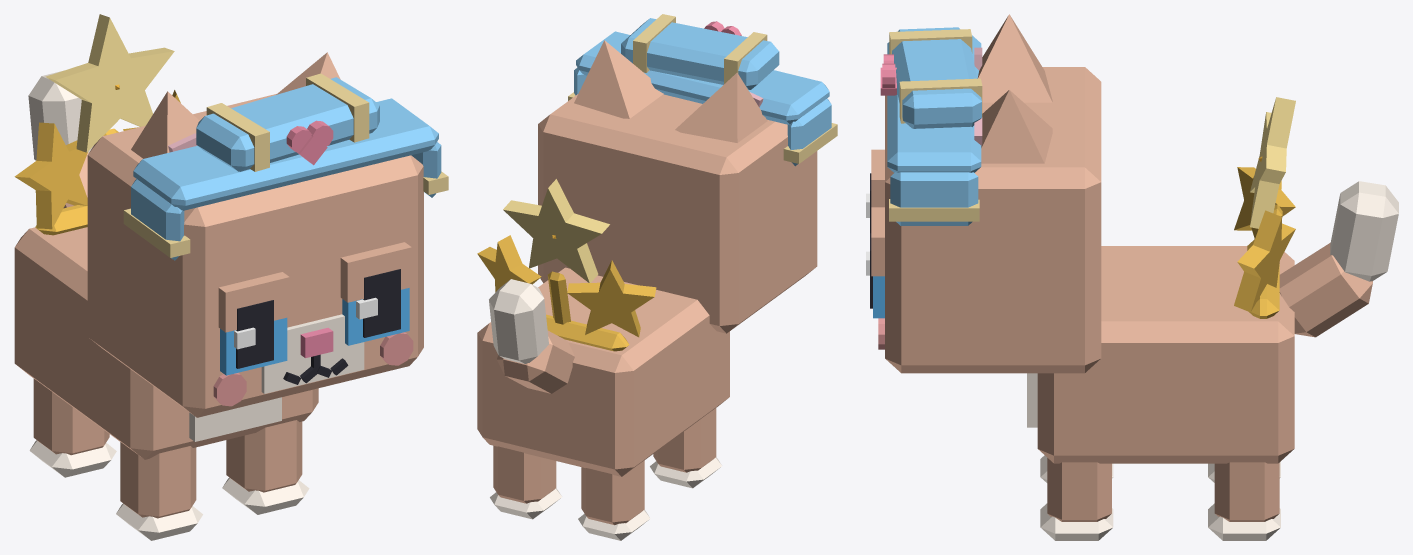
File: CleanACat_Pet_Cozy.fbx
The picture shows the model from 3 angles, left to right: view 1: azimuth 30°, elevation 25°; view 2: azimuth 150°, elevation 25°; view 3: azimuth 270°, elevation 25°; orthographic projection. The views are drawn at different scales.
Visible parts, largest first — view 1: CleanACat_Pet_Cozy_Head, CleanACat_Pet_Cozy_Prop, CleanACat_Pet_Cozy_Body, CleanACat_Pet_Cozy_Star3, CleanACat_Pet_Cozy_LegF2, CleanACat_Pet_Cozy_Eye2, CleanACat_Pet_Cozy_Eye1, CleanACat_Pet_Cozy_LegF1, CleanACat_Pet_Cozy_Star2, CleanACat_Pet_Cozy_LegB2, CleanACat_Pet_Cozy_Tail, CleanACat_Pet_Cozy_EarR (+1 smaller); view 2: CleanACat_Pet_Cozy_Head, CleanACat_Pet_Cozy_Body, CleanACat_Pet_Cozy_Prop, CleanACat_Pet_Cozy_Tail, CleanACat_Pet_Cozy_Star2, CleanACat_Pet_Cozy_Star3, CleanACat_Pet_Cozy_LegB2, CleanACat_Pet_Cozy_LegB1, CleanACat_Pet_Cozy_EarL, CleanACat_Pet_Cozy_EarR, CleanACat_Pet_Cozy_LegF2; view 3: CleanACat_Pet_Cozy_Head, CleanACat_Pet_Cozy_Body, CleanACat_Pet_Cozy_Prop, CleanACat_Pet_Cozy_Tail, CleanACat_Pet_Cozy_LegF1, CleanACat_Pet_Cozy_LegB1, CleanACat_Pet_Cozy_Star2, CleanACat_Pet_Cozy_EarR, CleanACat_Pet_Cozy_EarL, CleanACat_Pet_Cozy_Star3, CleanACat_Pet_Cozy_Eye1, CleanACat_Pet_Cozy_Eye2.
Boxes of the visible parts, x1,y1,x2,y2 form: CleanACat_Pet_Cozy_Head: [87, 94, 423, 417]; CleanACat_Pet_Cozy_Prop: [123, 73, 448, 260]; CleanACat_Pet_Cozy_Body: [14, 227, 318, 459]; CleanACat_Pet_Cozy_Star3: [45, 14, 174, 152]; CleanACat_Pet_Cozy_LegF2: [116, 442, 202, 540]; CleanACat_Pet_Cozy_Eye2: [218, 272, 289, 375]; CleanACat_Pet_Cozy_Eye1: [340, 242, 411, 345]; CleanACat_Pet_Cozy_LegF1: [222, 420, 309, 514]; CleanACat_Pet_Cozy_Star2: [14, 90, 180, 235]; CleanACat_Pet_Cozy_LegB2: [29, 378, 116, 477]; CleanACat_Pet_Cozy_Tail: [28, 71, 93, 208]; CleanACat_Pet_Cozy_EarR: [131, 91, 199, 158]; CleanACat_Pet_Cozy_Head: [538, 94, 817, 333]; CleanACat_Pet_Cozy_Body: [477, 267, 729, 476]; CleanACat_Pet_Cozy_Prop: [568, 14, 837, 166]; CleanACat_Pet_Cozy_Tail: [489, 279, 574, 393]; CleanACat_Pet_Cozy_Star2: [477, 235, 656, 351]; CleanACat_Pet_Cozy_Star3: [503, 179, 609, 324]; CleanACat_Pet_Cozy_LegB2: [578, 460, 650, 540]; CleanACat_Pet_Cozy_LegB1: [490, 445, 561, 519]; CleanACat_Pet_Cozy_EarL: [574, 40, 663, 118]; CleanACat_Pet_Cozy_EarR: [675, 72, 767, 142]; CleanACat_Pet_Cozy_LegF2: [650, 408, 721, 488]; CleanACat_Pet_Cozy_Head: [878, 67, 1101, 373]; CleanACat_Pet_Cozy_Body: [1027, 246, 1294, 463]; CleanACat_Pet_Cozy_Prop: [880, 27, 982, 225]; CleanACat_Pet_Cozy_Tail: [1279, 181, 1398, 337]; CleanACat_Pet_Cozy_LegF1: [1040, 458, 1113, 540]; CleanACat_Pet_Cozy_LegB1: [1208, 462, 1280, 540]; CleanACat_Pet_Cozy_Star2: [1234, 167, 1295, 318]; CleanACat_Pet_Cozy_EarR: [974, 14, 1052, 102]; CleanACat_Pet_Cozy_EarL: [974, 90, 1052, 163]; CleanACat_Pet_Cozy_Star3: [1250, 97, 1295, 228]; CleanACat_Pet_Cozy_Eye1: [866, 207, 884, 318]; CleanACat_Pet_Cozy_Eye2: [866, 149, 884, 233].
Bounding box in the file's own units: 1.15 × 1.86 × 1.97.
Materials: 1 (1 with a texture image).
